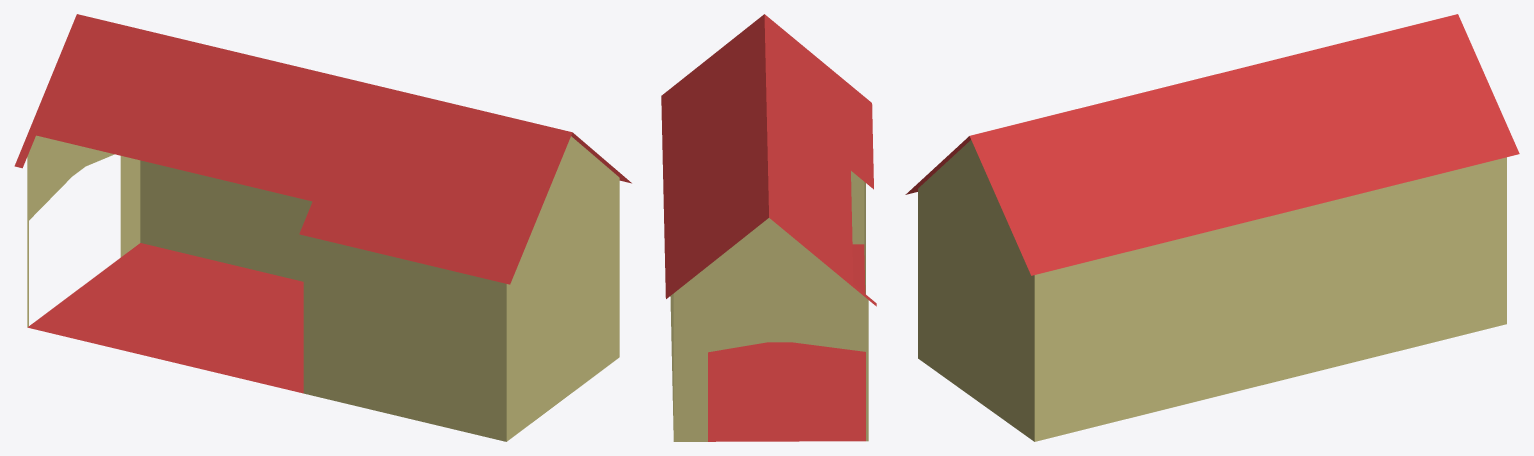
The picture shows the model from 3 angles, left to right: view 1: azimuth 30°, elevation 25°; view 2: azimuth 150°, elevation 25°; view 3: azimuth 270°, elevation 25°; orthographic projection. The views are drawn at different scales.
Size of the model in its own units: 26.77 by 32.78 by 15.73.
